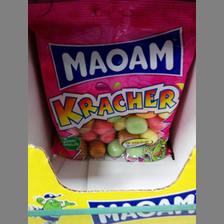candy: (28, 3, 196, 160)
